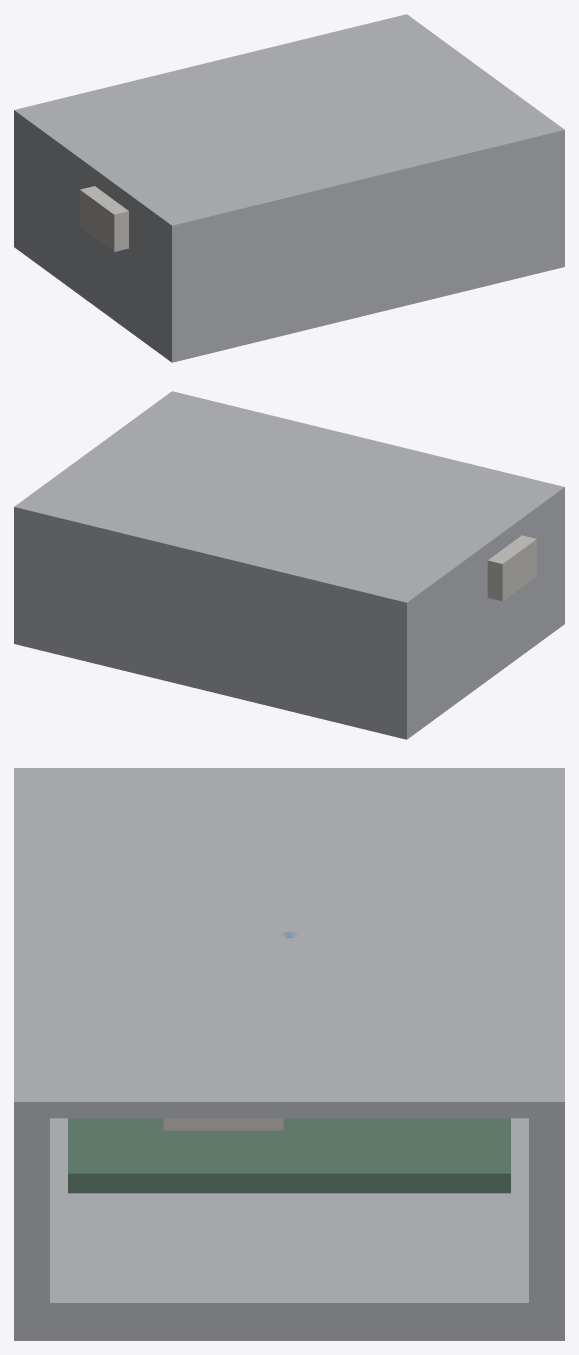
3 views of the same model, one above another, from view 1: azimuth 30°, elevation 25°; view 2: azimuth 150°, elevation 25°; view 3: azimuth 270°, elevation 25° (orthographic). The views are drawn at different scales.
Parts seen in each view (by area): view 1: enclosure, module_04; view 2: enclosure, module_04; view 3: enclosure, main_board, module_01.
Part boxes in pixels (x1,y1,x2,y2): enclosure: [14, 14, 564, 362]; module_04: [80, 186, 128, 251]; enclosure: [14, 391, 564, 739]; module_04: [487, 535, 536, 601]; enclosure: [14, 768, 564, 1340]; main_board: [68, 1118, 510, 1193]; module_01: [163, 1118, 283, 1130].
Size of the model in its own units: 6.85 by 2.2 by 4.6.
